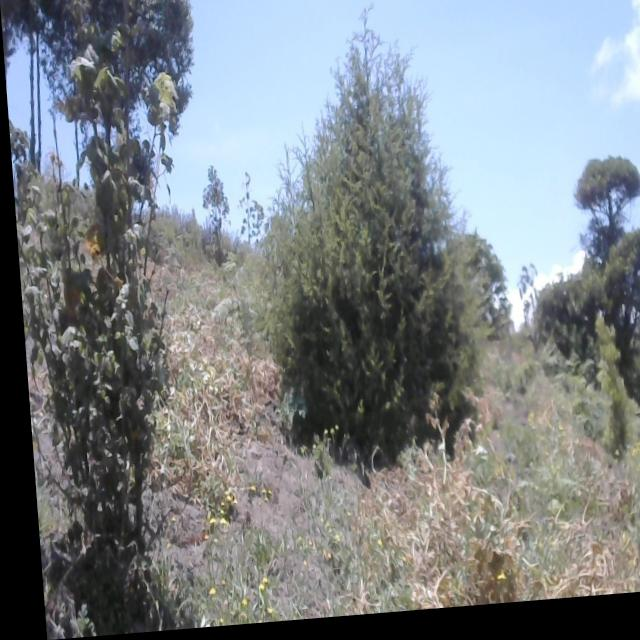cedrus: (239, 8, 509, 518)
other: (12, 22, 217, 639), (531, 161, 640, 390)
